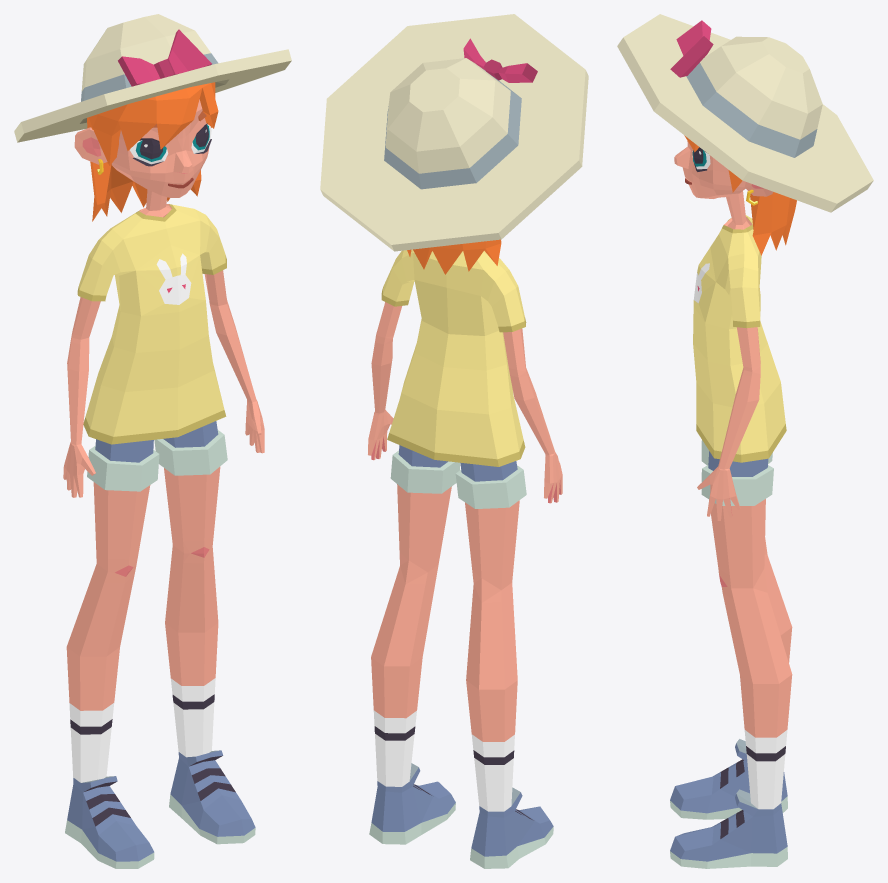
3 views of the same model, side by side, from view 1: azimuth 30°, elevation 25°; view 2: azimuth 150°, elevation 25°; view 3: azimuth 270°, elevation 25° (orthographic). The views are drawn at different scales.
Parts seen in each view (by area): view 1: body_0, hat_1, hair_2, eyes_5; view 2: body_0, hat_1, hair_2; view 3: body_0, hat_1, hair_2.
Boxes of the visible parts, x1,y1,x2,y2 form: body_0: [63, 99, 264, 868]; hat_1: [14, 14, 291, 142]; hair_2: [87, 82, 218, 221]; eyes_5: [130, 123, 211, 166]; body_0: [368, 249, 562, 868]; hat_1: [320, 14, 588, 251]; hair_2: [407, 239, 501, 274]; body_0: [670, 141, 792, 868]; hat_1: [617, 14, 873, 212]; hair_2: [684, 135, 796, 255].
Size of the model in its own units: 0.8991 by 2.68 by 0.7795.
1 material, 1 textured.
